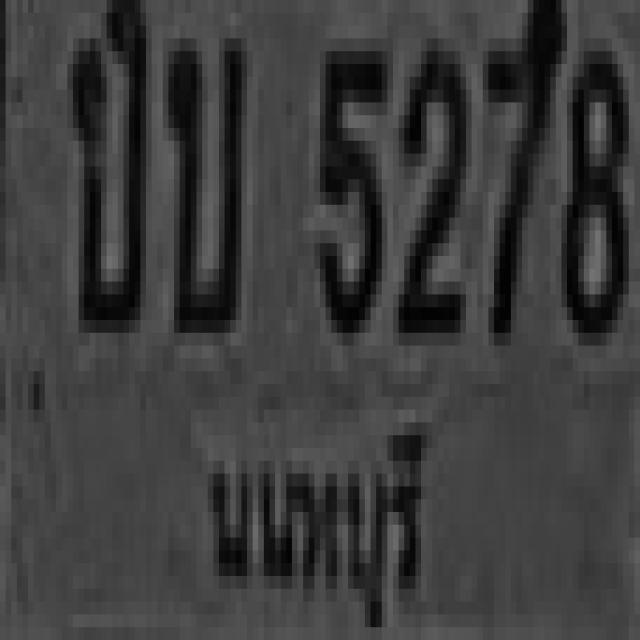2: (396, 32, 463, 326)
35BorBaiMai: (65, 0, 143, 320), (163, 26, 241, 320)
5: (314, 32, 382, 326)
7: (480, 0, 559, 333)
8: (562, 38, 624, 333)
Nonthaburi: (196, 397, 432, 640)
